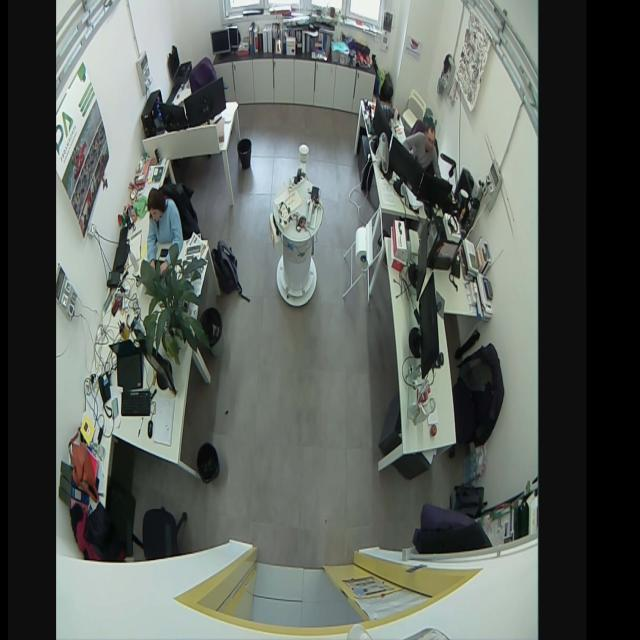Persona: (144, 184, 186, 277), (403, 118, 441, 182)
